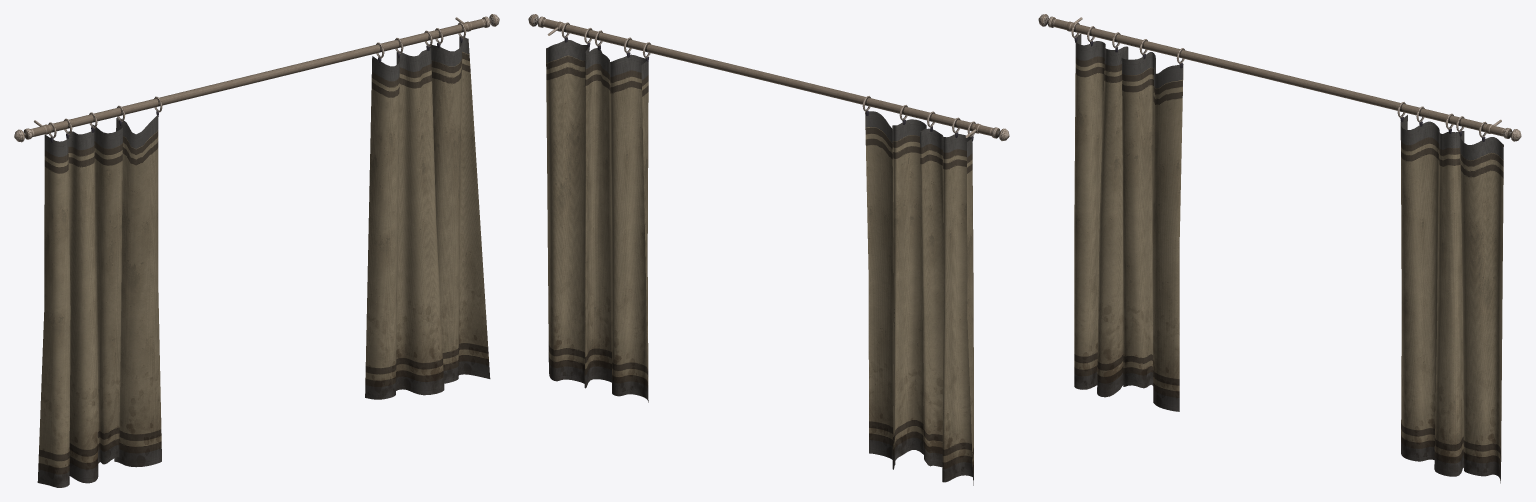
Rendered from Curtain1.fbx.
3 views of the same model, side by side, from view 1: azimuth 30°, elevation 25°; view 2: azimuth 150°, elevation 25°; view 3: azimuth 330°, elevation 25° (orthographic).
Visible parts, largest first — view 1: polySurface44; view 2: polySurface44; view 3: polySurface44.
Boxes of the visible parts, <box> form: polySurface44: <box>14,14,499,487</box>; polySurface44: <box>528,14,1009,485</box>; polySurface44: <box>1038,14,1521,483</box>.
Bounding box in the file's own units: 335 × 239 × 22.08.
